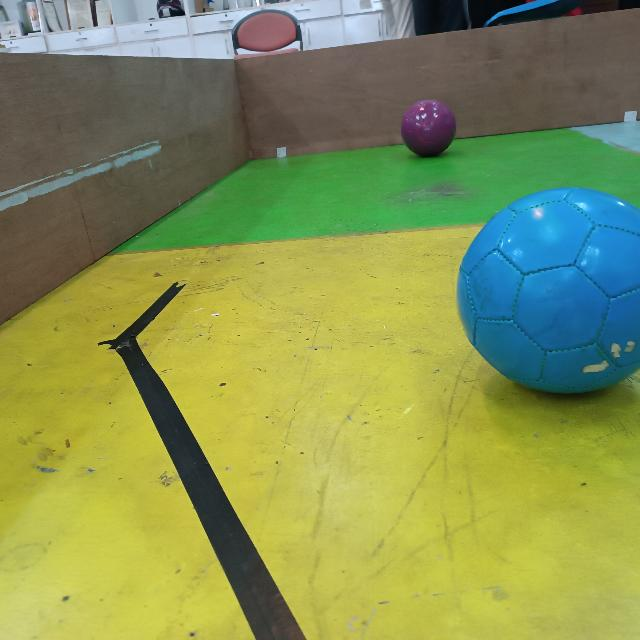P: (456, 186, 640, 394), (400, 99, 458, 159)
